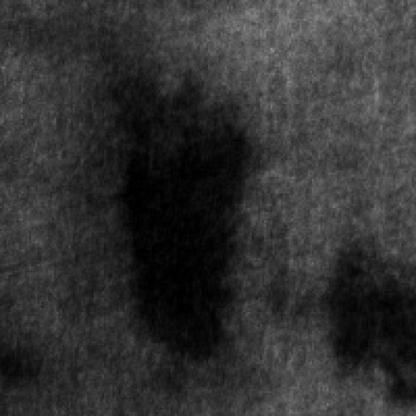patches: (108, 73, 256, 360), (320, 244, 414, 402)
